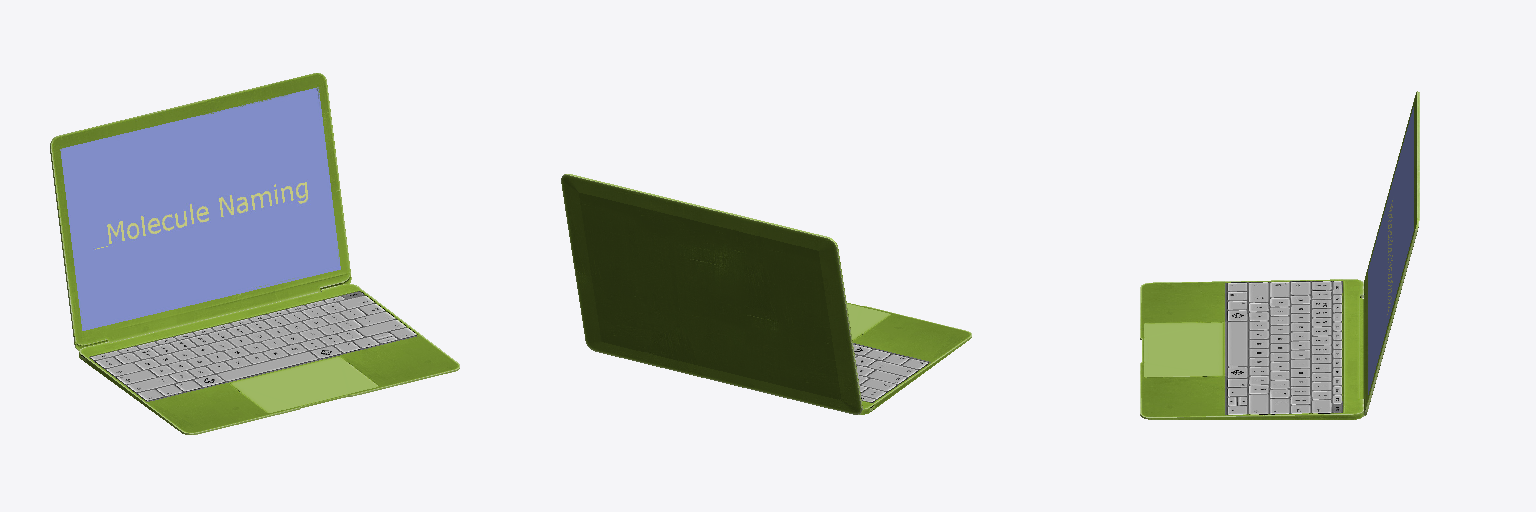
The picture shows the model from 3 angles: view 1: azimuth 30°, elevation 25°; view 2: azimuth 150°, elevation 25°; view 3: azimuth 270°, elevation 25°; orthographic projection.
Visible parts, largest first — view 1: laptop; view 2: laptop; view 3: laptop.
Boxes of the visible parts, x1,y1,x2,y2 form: laptop: [50, 73, 459, 434]; laptop: [561, 174, 971, 414]; laptop: [1140, 91, 1419, 419].
Size of the model in its own units: 0.2819 by 0.1959 by 0.2459.
1 materials, 1 textured.